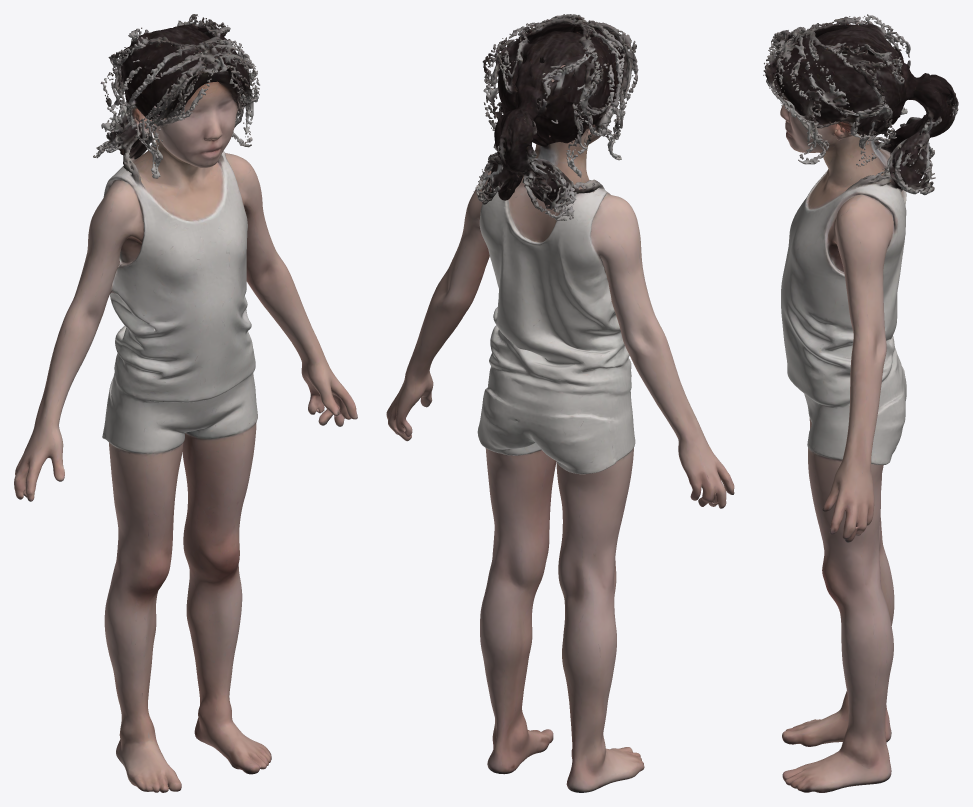
The model's file is miniroyal-girl.glb.
3 renders of one model, left to right at view 1: azimuth 30°, elevation 25°; view 2: azimuth 150°, elevation 25°; view 3: azimuth 270°, elevation 25°, orthographic.
Visible parts, largest first — view 1: world; view 2: world; view 3: world.
Boxes of the visible parts, x1,y1,x2,y2 form: world: (14, 14, 357, 792); world: (386, 14, 734, 792); world: (763, 14, 958, 792).
Bounding box in the file's own units: 0.48 × 1 × 0.2424.
Materials: 1 (1 with a texture image).
